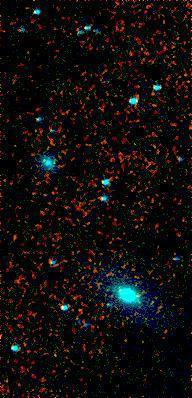star: (115, 121, 145, 151)
